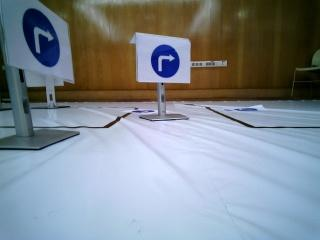right: (2, 0, 76, 85), (132, 34, 190, 83)
